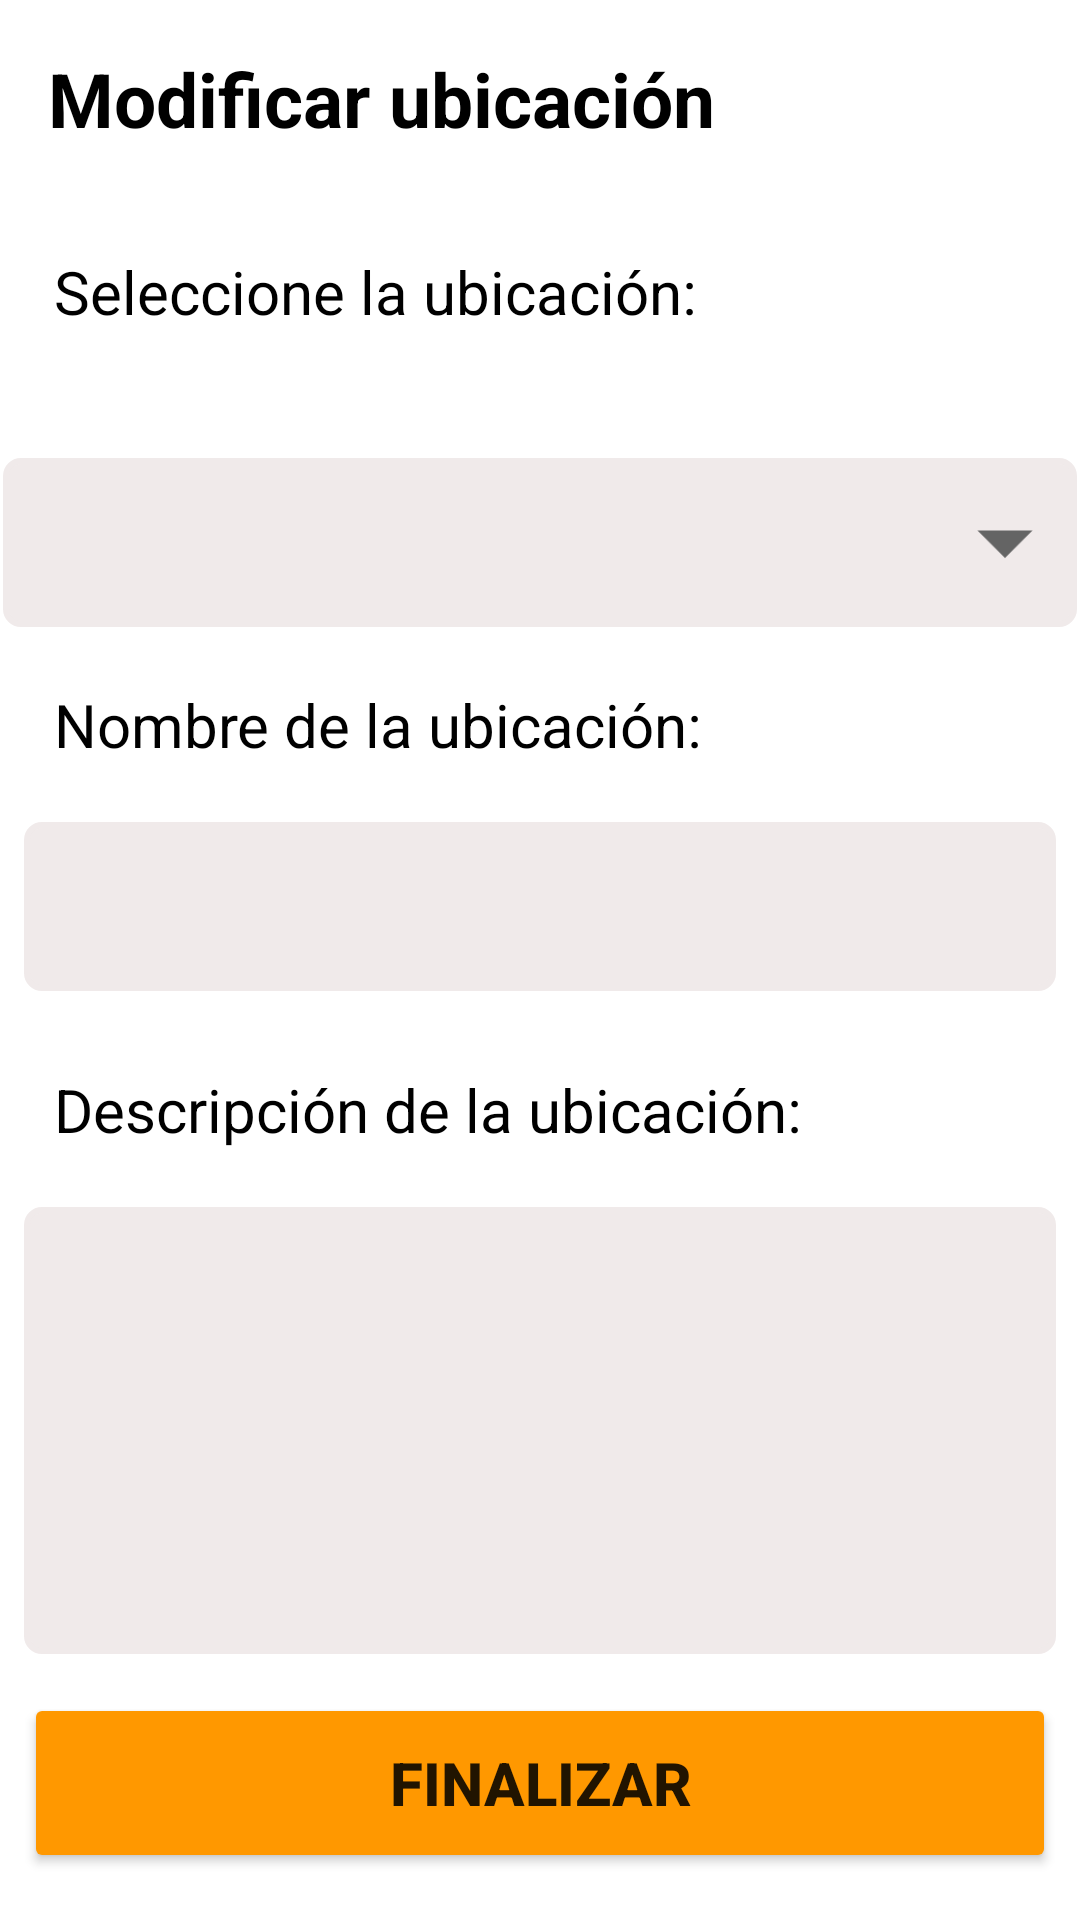

Icons on this 1080×1920 Android screen, each with its box as (x1, y1, x2, y2):
arrow drop down: (977, 530, 1033, 558)
